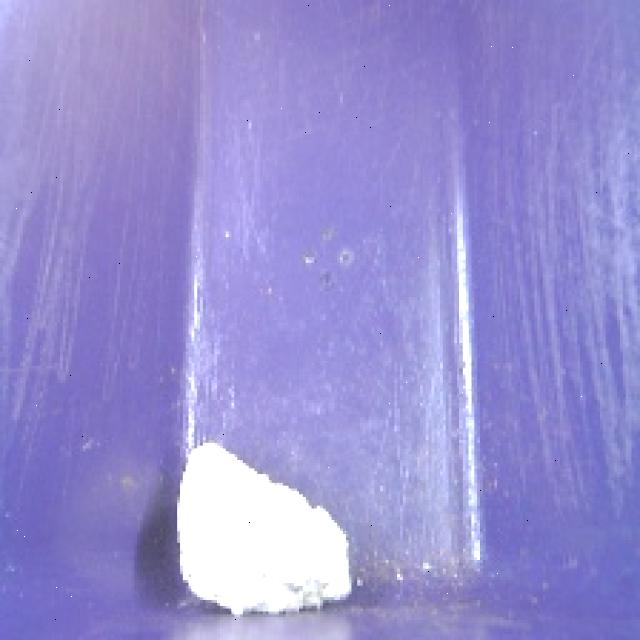brick: (133, 430, 369, 622)
